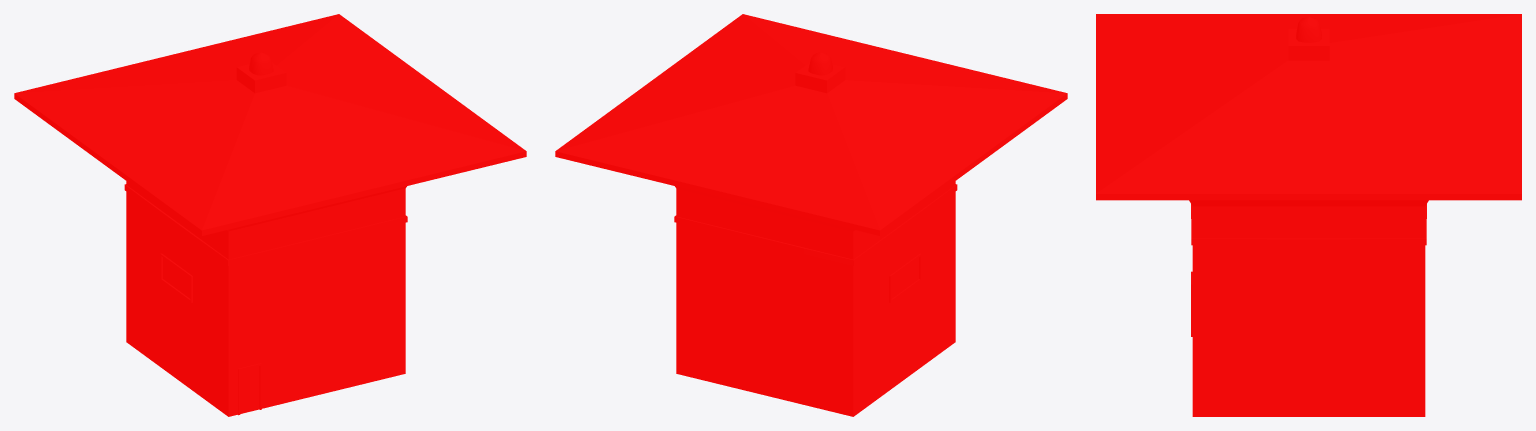
The model's file is TestBuilding_001.FBX.
3 renders of one model, left to right at view 1: azimuth 30°, elevation 25°; view 2: azimuth 150°, elevation 25°; view 3: azimuth 270°, elevation 25°, orthographic. The views are drawn at different scales.
Visible parts, largest first — view 1: TestBuilding_001; view 2: TestBuilding_001; view 3: TestBuilding_001.
Part boxes in pixels (box(x1,y1,x2,y2)): TestBuilding_001: box(14, 14, 526, 416); TestBuilding_001: box(555, 14, 1067, 416); TestBuilding_001: box(1096, 14, 1521, 416).
Bounding box in the file's own units: 1833 × 1833 × 1654.
